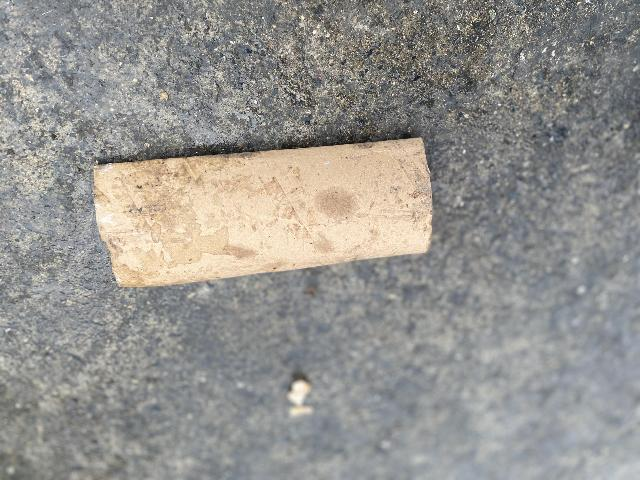Kagit: (93, 133, 436, 291)
